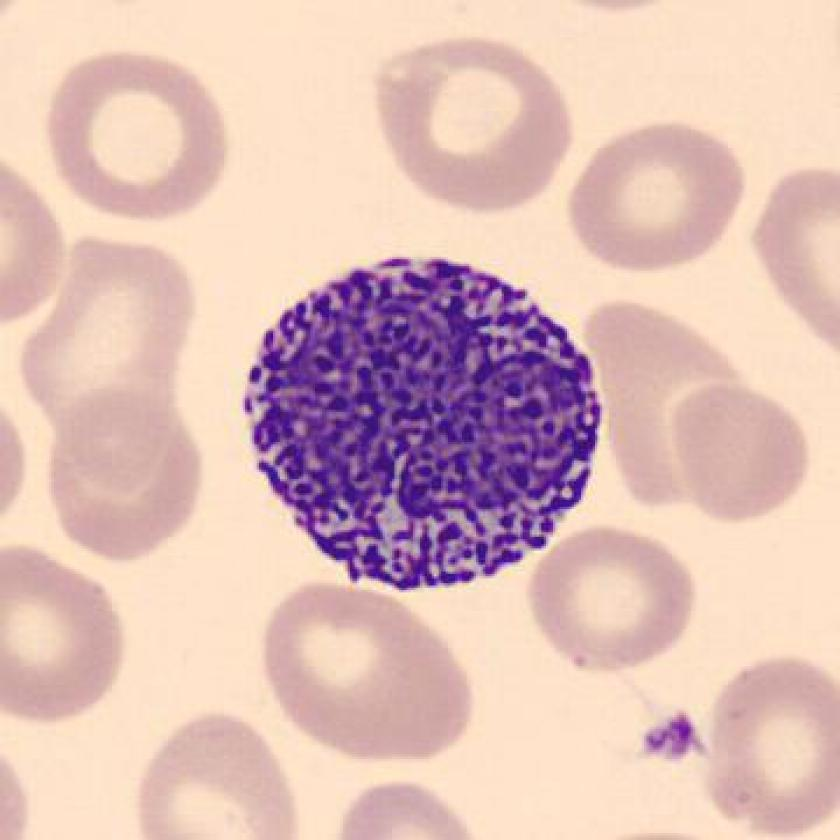basophil: (230, 246, 610, 591)
